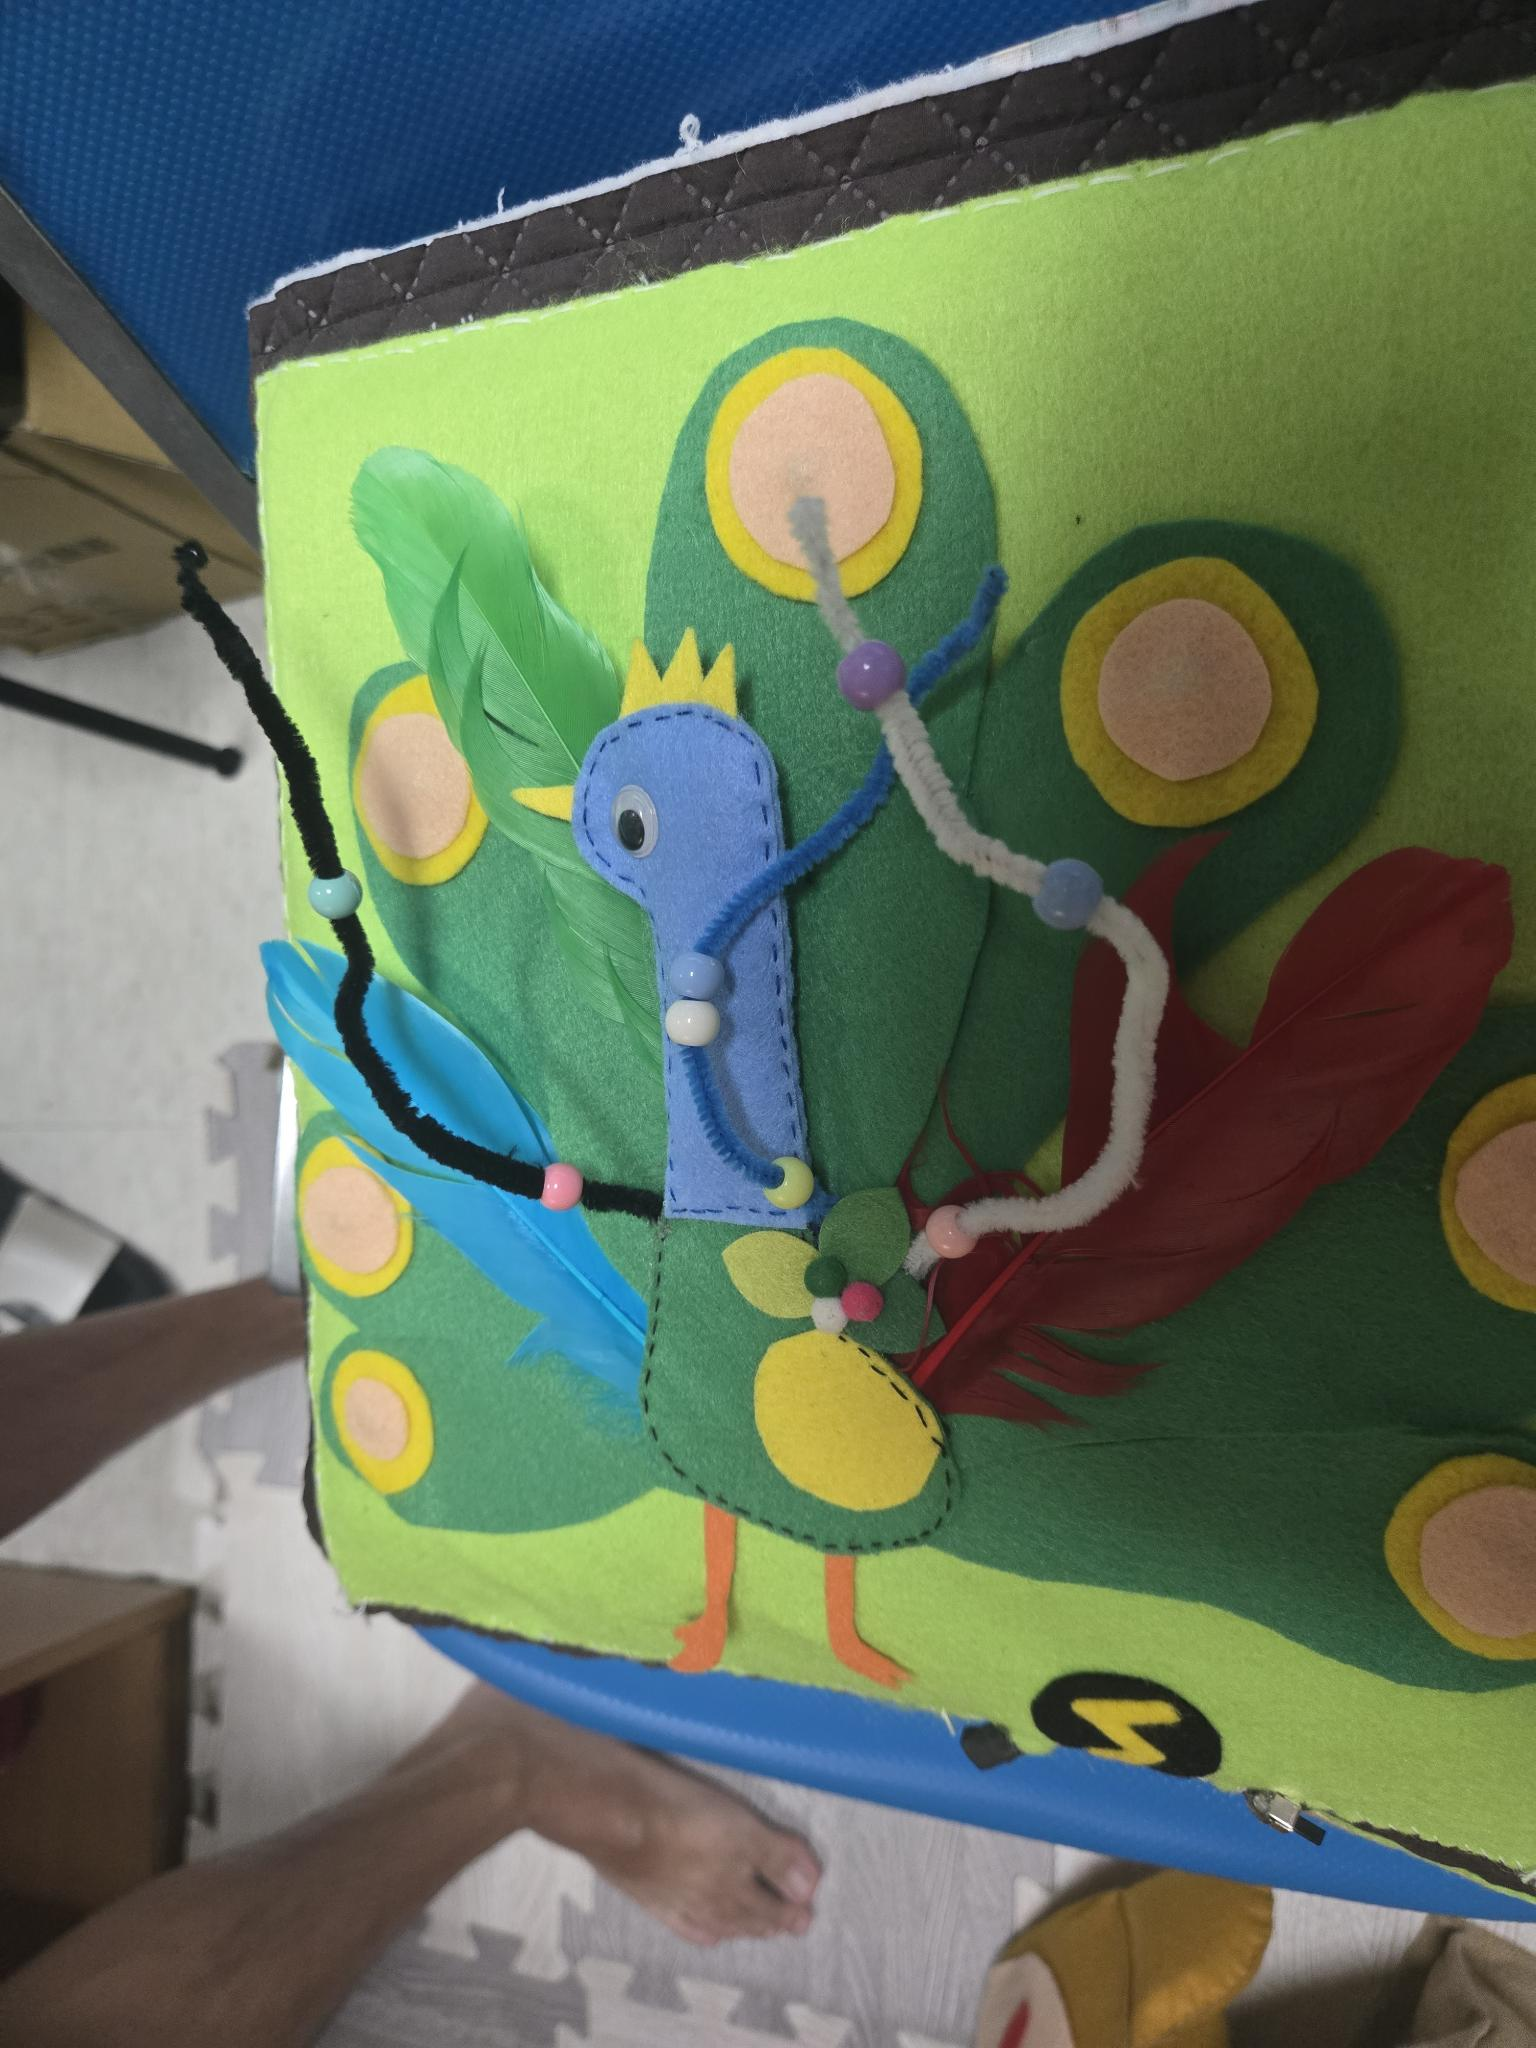bead: (836, 637, 913, 711), (1029, 863, 1100, 943), (916, 1200, 992, 1274), (650, 992, 736, 1055), (763, 1150, 818, 1226), (308, 868, 366, 927), (532, 1150, 591, 1208), (655, 950, 726, 995)
